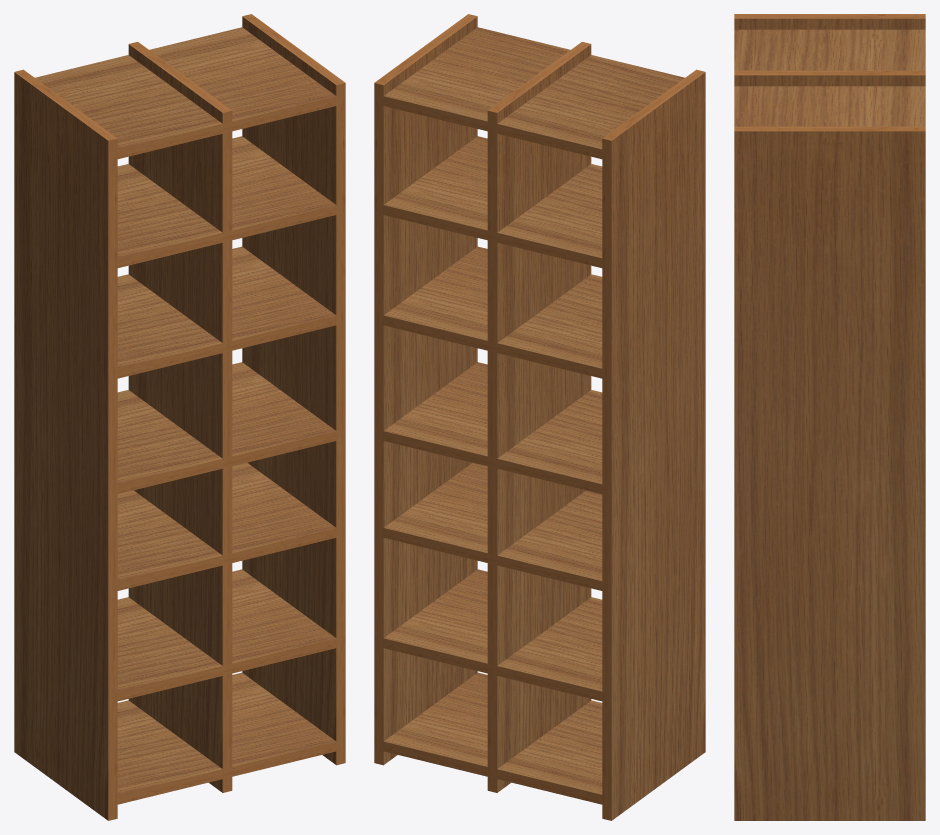
File: self5.FBX
The picture shows the model from 3 angles, left to right: view 1: azimuth 30°, elevation 25°; view 2: azimuth 150°, elevation 25°; view 3: azimuth 270°, elevation 25°; orthographic projection.
Parts seen in each view (by area): view 1: self5; view 2: self5; view 3: self5.
Boxes of the visible parts, x1=… form: self5: x1=14, y1=14, x2=345, y2=820; self5: x1=374, y1=14, x2=705, y2=820; self5: x1=734, y1=14, x2=925, y2=820.
Bounding box in the file's own units: 5.07 × 13.89 × 3.49.
